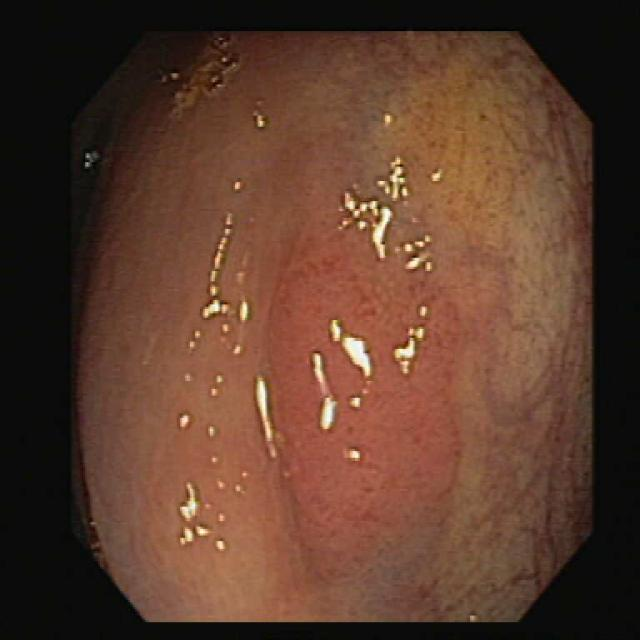tumor: (268, 229, 467, 600)
